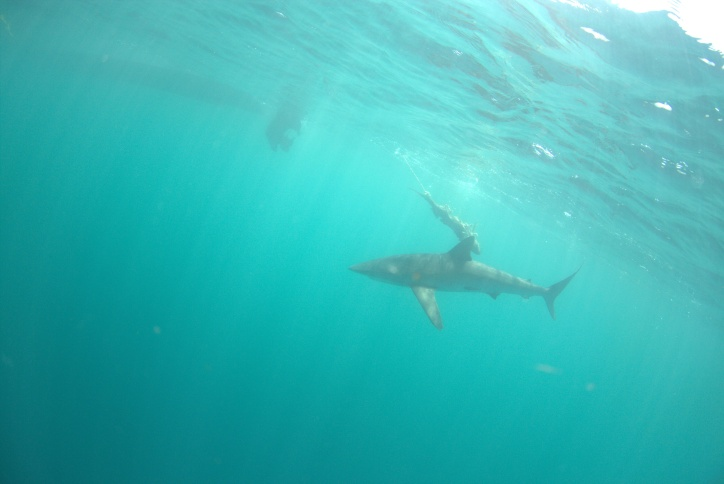Sedoso: (323, 226, 585, 345)
